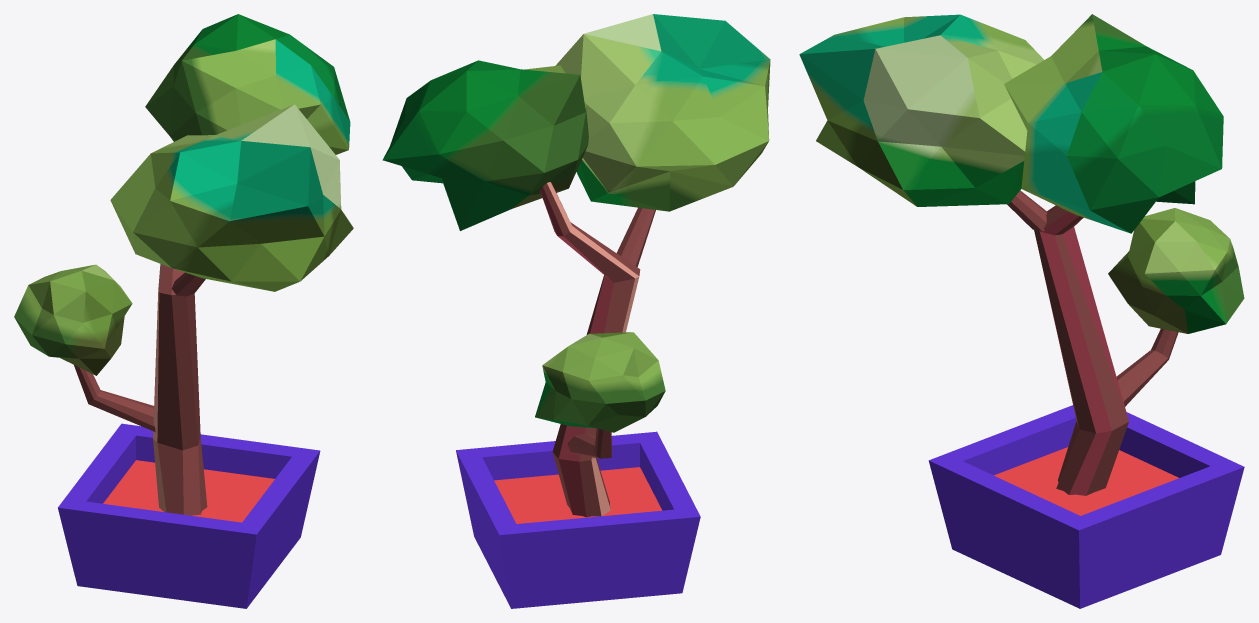
File: Tree.gltf
The picture shows the model from 3 angles, left to right: view 1: azimuth 30°, elevation 25°; view 2: azimuth 150°, elevation 25°; view 3: azimuth 270°, elevation 25°; orthographic projection. The views are drawn at different scales.
Parts seen in each view (by area): view 1: Tree; view 2: Tree; view 3: Tree.
Part boxes in pixels (x1,y1,x2,y2): Tree: [14, 14, 353, 608]; Tree: [382, 14, 770, 608]; Tree: [799, 14, 1244, 608].
Size of what is drawn, in the model's own units: 2.03 by 3.38 by 2.52.
Materials: 1 (1 with a texture image).
